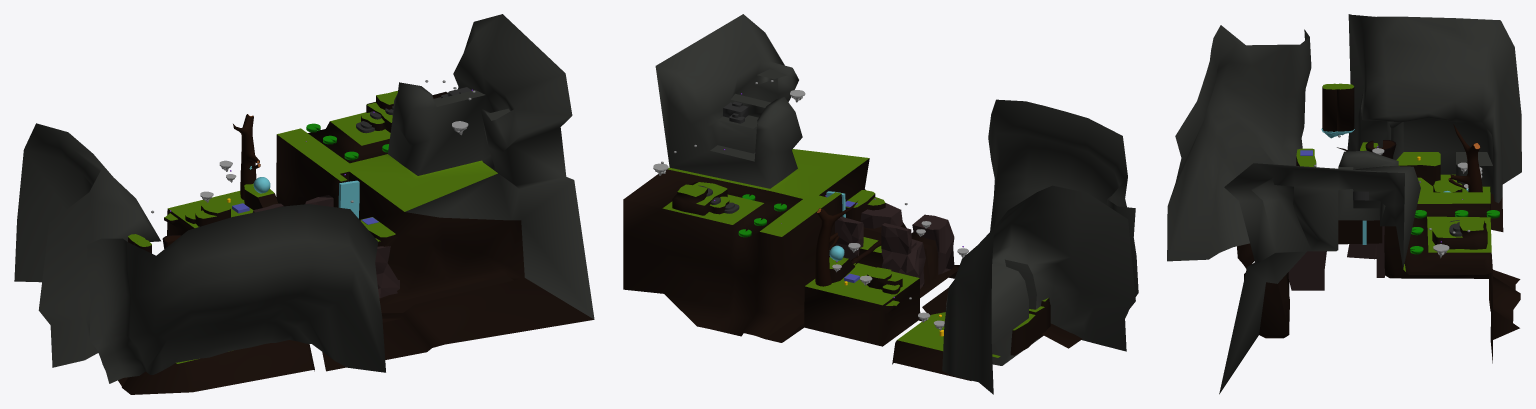
The model's file is SM_Section1A.FBX.
3 renders of one model, left to right at view 1: azimuth 30°, elevation 25°; view 2: azimuth 150°, elevation 25°; view 3: azimuth 270°, elevation 25°, orthographic. The views are drawn at different scales.
Visible parts, largest first — view 1: Plane001, Cave_003, Cave_002, Object002, SM_TreeBroken, RockArea2, SM_Land_5, SM_Land_3, Iceblock, SM_Land_6; view 2: Plane001, Cave_002, Cave_003, Object002, RockArea4, SM_Land_5, RockArea1, SM_Land_2, SM_TreeBroken, RockArea3, RockArea2, SM_Land_3 (+1 smaller); view 3: Plane001, Cave_002, Cave_003, SM_Land_5, RockArea2, SM_Land_2, SM_TreeBroken, Column_2, Object002, Column_1, RockArea4, RockArea3 (+1 smaller).
Boxes of the visible parts, x1=… form: Plane001: x1=164, y1=14, x2=594, y2=371; Cave_003: x1=87, y1=204, x2=385, y2=383; Cave_002: x1=14, y1=123, x2=160, y2=367; Object002: x1=118, y1=340, x2=314, y2=394; SM_TreeBroken: x1=233, y1=114, x2=259, y2=199; RockArea2: x1=375, y1=246, x2=399, y2=298; SM_Land_5: x1=361, y1=91, x2=397, y2=132; SM_Land_3: x1=185, y1=201, x2=230, y2=226; Iceblock: x1=338, y1=180, x2=359, y2=218; SM_Land_6: x1=244, y1=183, x2=278, y2=209; Plane001: x1=623, y1=14, x2=958, y2=346; Cave_002: x1=942, y1=185, x2=1135, y2=394; Cave_003: x1=988, y1=99, x2=1138, y2=318; Object002: x1=892, y1=265, x2=1081, y2=380; RockArea4: x1=881, y1=223, x2=925, y2=288; SM_Land_5: x1=672, y1=182, x2=729, y2=215; RockArea1: x1=912, y1=214, x2=954, y2=274; SM_Land_2: x1=1010, y1=298, x2=1050, y2=355; SM_TreeBroken: x1=815, y1=201, x2=857, y2=286; RockArea3: x1=835, y1=216, x2=863, y2=263; RockArea2: x1=860, y1=203, x2=902, y2=255; SM_Land_3: x1=867, y1=267, x2=902, y2=294; Plane001: x1=1219, y1=150, x2=1520, y2=394; Cave_002: x1=1347, y1=14, x2=1521, y2=203; Cave_003: x1=1167, y1=25, x2=1311, y2=261; SM_Land_5: x1=1432, y1=219, x2=1487, y2=249; RockArea2: x1=1288, y1=251, x2=1326, y2=290; SM_Land_2: x1=1360, y1=142, x2=1440, y2=186; SM_TreeBroken: x1=1450, y1=124, x2=1482, y2=192; Column_2: x1=1337, y1=83, x2=1354, y2=131; Object002: x1=1237, y1=174, x2=1503, y2=268; Column_1: x1=1322, y1=83, x2=1337, y2=131; RockArea4: x1=1347, y1=243, x2=1376, y2=259; RockArea3: x1=1376, y1=226, x2=1384, y2=277.
Bounding box in the file's own units: 160 × 74.71 × 104.
